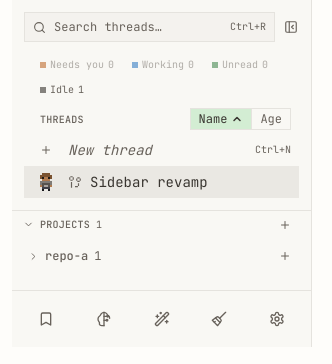
Test case: Sidebar session rows › has no menu item that starts a second agent in the same worktree
The image size is (332, 364).
Right-click the button "Sidebar revamp" at x=162, y=182, box x1=24 y1=166 x2=299 y2=198
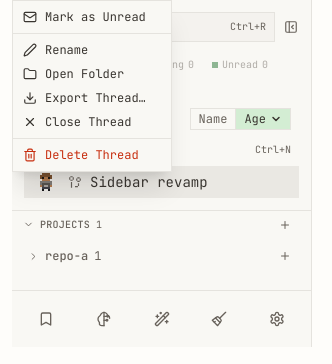
Expected: the menu is shown, x1=12 y1=0 x2=172 y2=172
